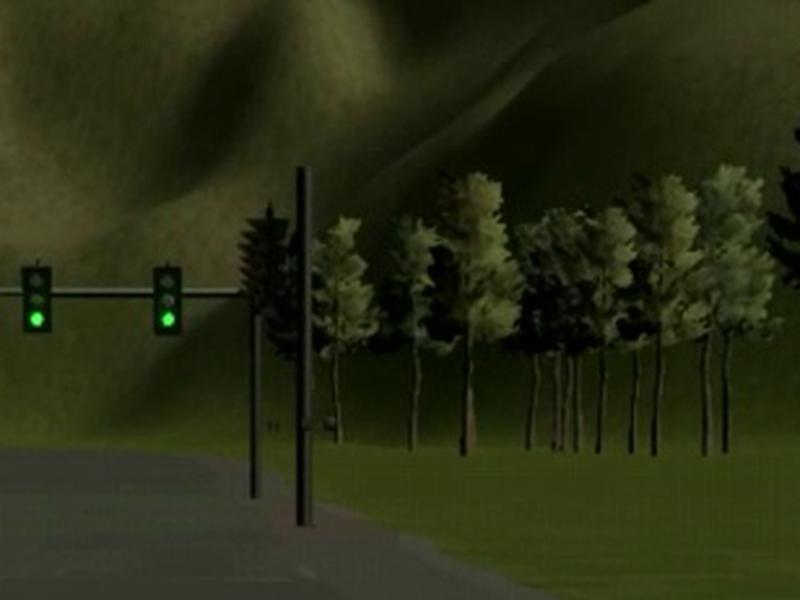Green: (151, 265, 184, 336), (20, 265, 51, 333)
